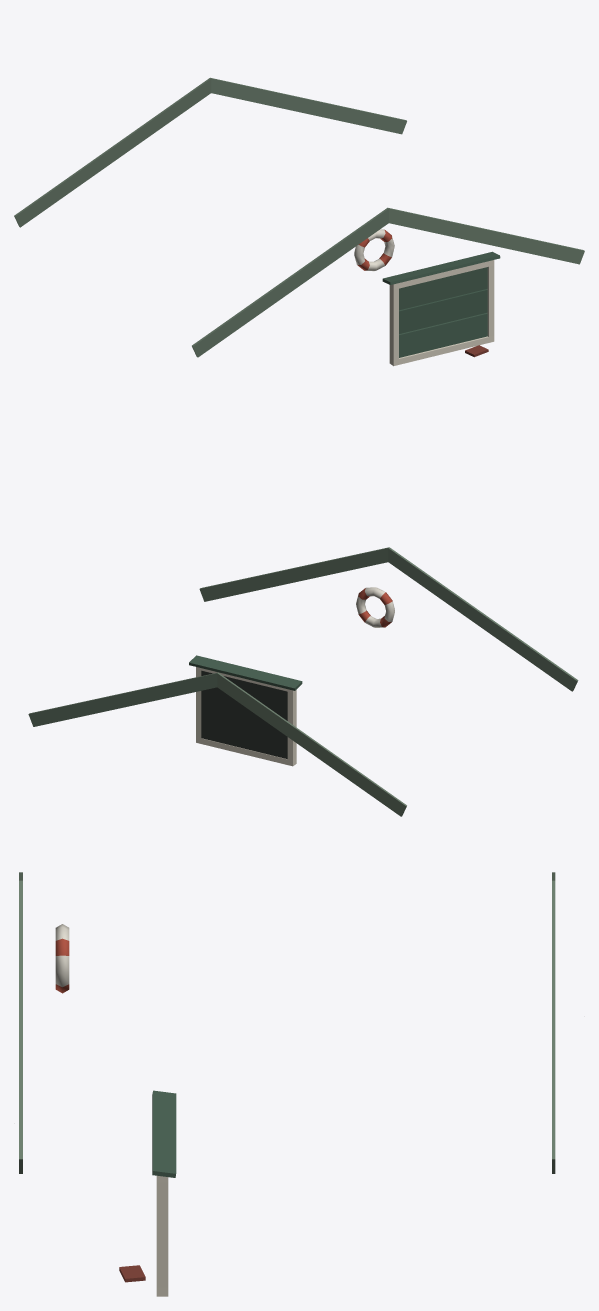
Rendered from Boathouse_paint.glb.
3 renders of one model, top to bottom at view 1: azimuth 30°, elevation 25°; view 2: azimuth 150°, elevation 25°; view 3: azimuth 270°, elevation 25°, orthographic. The views are drawn at different scales.
Visible parts, largest first — view 1: Boathouse_paint; view 2: Boathouse_paint; view 3: Boathouse_paint.
Boxes of the visible parts, <box> form: Boathouse_paint: <box>14,77,584,366</box>; Boathouse_paint: <box>28,547,578,816</box>; Boathouse_paint: <box>19,872,555,1296</box>.
Size of the model in its own units: 17.95 by 11.38 by 14.7.
